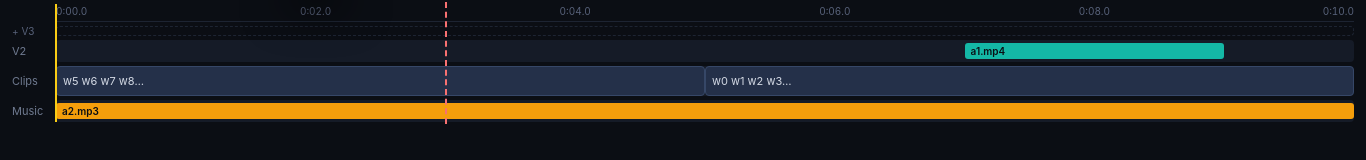
Test: Timeline (Razor and Range) › razor: drops the line after a split, until the pointer moves again
Press the mouse on the element with test id "timeline-lanes" at (705, 63), box [56,4,1354,122]
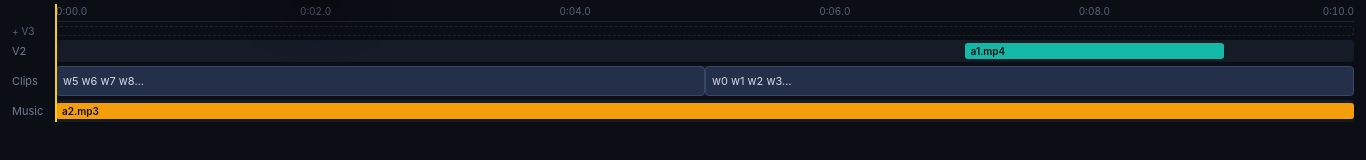
Now the element with test id "razor-line" is gone
